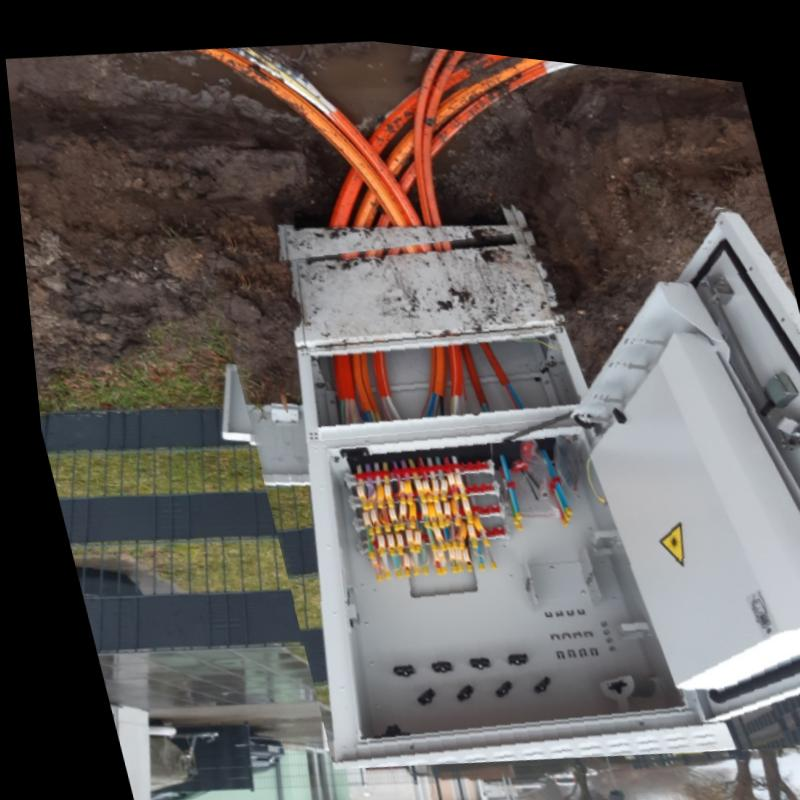NT-Gehause: (277, 190, 800, 763)
